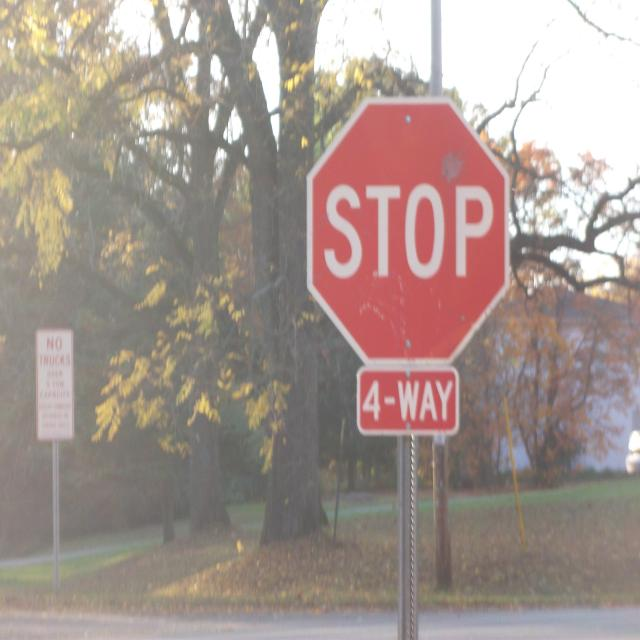stop: (305, 81, 529, 363)
